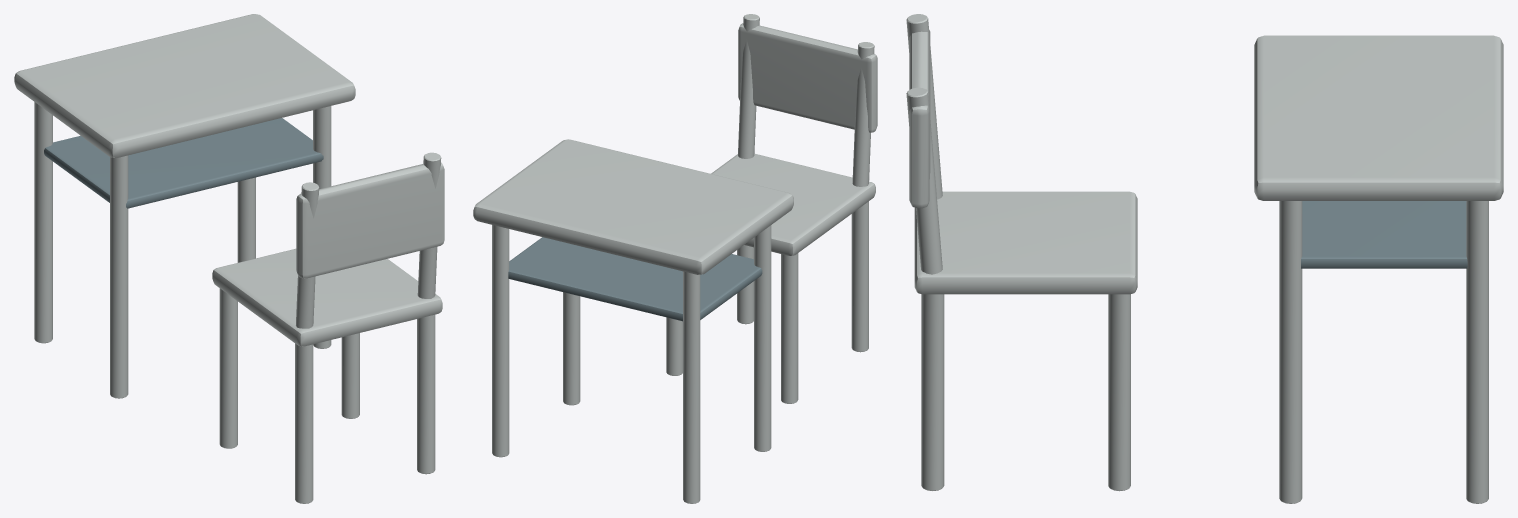
The model's file is school-desk.glb.
3 renders of one model, left to right at view 1: azimuth 30°, elevation 25°; view 2: azimuth 150°, elevation 25°; view 3: azimuth 270°, elevation 25°, orthographic. The views are drawn at different scales.
Visible parts, largest first — view 1: desk_top, chair_back, chair_seat, book_shelf, desk_leg.001, desk_leg, chair_leg.002, chair_leg, chair_leg.003, chair_leg.001, desk_leg.002, desk_leg.003 (+2 smaller); view 2: desk_top, book_shelf, chair_back, chair_seat, desk_leg, desk_leg.002, desk_leg.001, chair_leg.003, chair_leg.002, desk_leg.003, chair_back_post.001, chair_back_post (+2 smaller); view 3: desk_top, chair_seat, book_shelf, desk_leg.003, desk_leg.002, chair_leg, chair_leg.001, chair_back, chair_back_post, chair_back_post.001.
Boxes of the visible parts, box(x1,y1,x2,y2) form: desk_top: box(14, 14, 355, 157); chair_back: box(296, 162, 444, 278); chair_seat: box(212, 248, 442, 346); book_shelf: box(44, 118, 323, 208); desk_leg.001: box(110, 155, 128, 398); desk_leg: box(34, 102, 52, 343); chair_leg.002: box(295, 343, 313, 503); chair_leg: box(417, 314, 435, 474); chair_leg.003: box(219, 288, 237, 448); chair_leg.001: box(341, 333, 359, 418); desk_leg.002: box(237, 177, 255, 262); desk_leg.003: box(313, 106, 331, 348); desk_top: box(473, 139, 793, 274); book_shelf: box(508, 237, 762, 321); chair_back: box(738, 23, 877, 132); chair_seat: box(711, 153, 875, 255); desk_leg: box(683, 271, 700, 503); desk_leg.002: box(492, 225, 509, 457); desk_leg.001: box(754, 225, 771, 451); chair_leg.003: box(781, 253, 798, 403); chair_leg.002: box(851, 201, 868, 352); desk_leg.003: box(563, 292, 580, 405); chair_back_post.001: box(852, 42, 874, 186); chair_back_post: box(738, 14, 759, 158); desk_top: box(1254, 35, 1503, 200); chair_seat: box(914, 191, 1137, 294); book_shelf: box(1301, 201, 1467, 268); desk_leg.003: box(1279, 201, 1302, 503); desk_leg.002: box(1466, 201, 1488, 503); chair_leg: box(921, 294, 944, 490); chair_leg.001: box(1108, 294, 1130, 491); chair_back: box(909, 29, 930, 208); chair_back_post: box(906, 87, 942, 274); chair_back_post.001: box(906, 14, 942, 199).
Size of the model in its own units: 0.68 by 0.8414 by 1.15.
